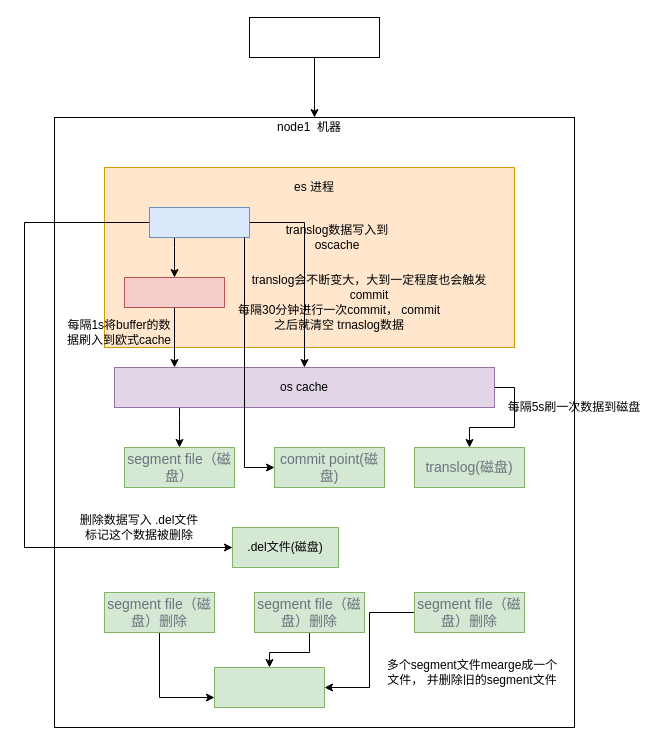
The diagram is 662 pixels wide and 745 high, and some of its shapes have lost their labels. The centre of each missing label's shape, as x and y in pixels:
buffer: [174,292]
shard1: [199,222]
客户端: [314,37]
新的segment file（磁盘）: [269,687]
